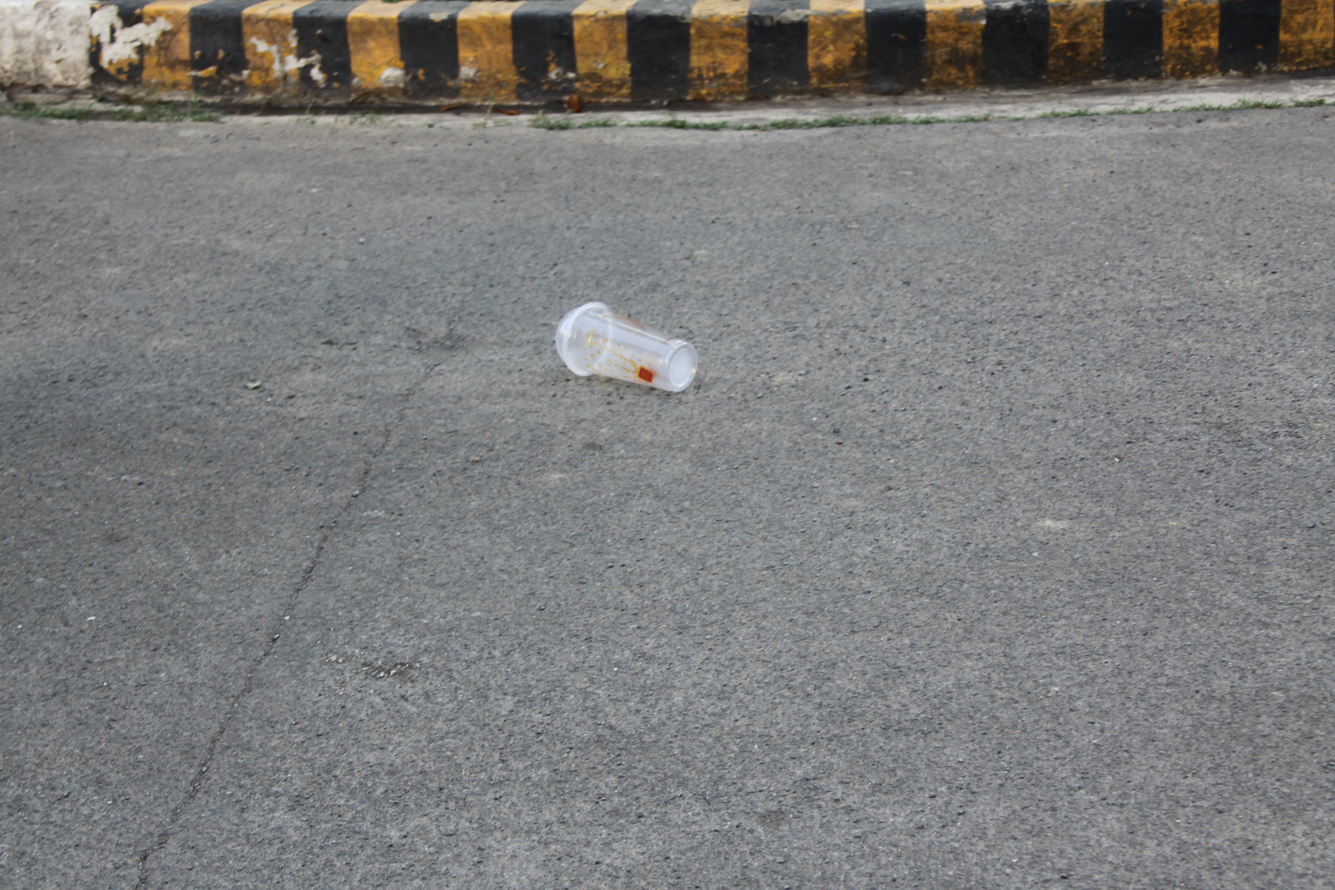Plastic: (554, 300, 700, 394)
